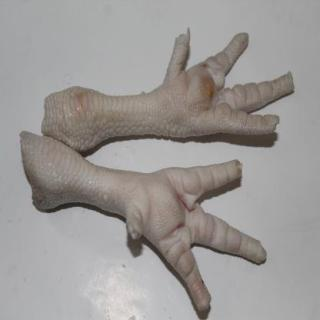Ayam: (21, 131, 269, 313), (43, 27, 295, 155)
